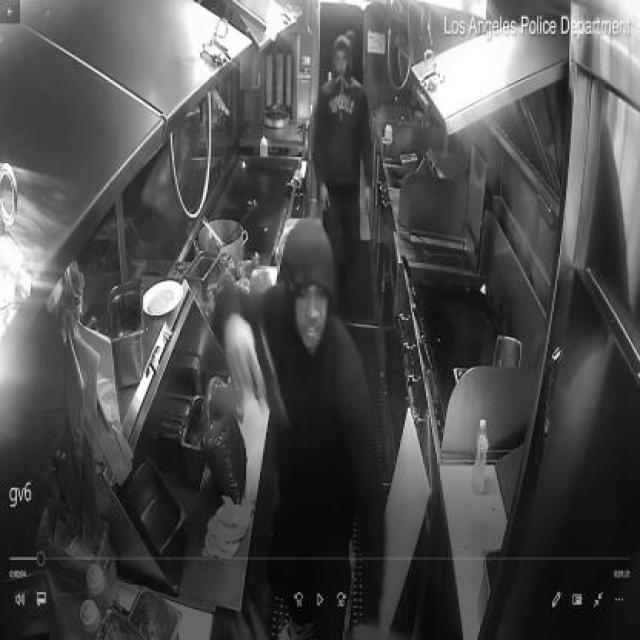weapon: (250, 334, 290, 422)
